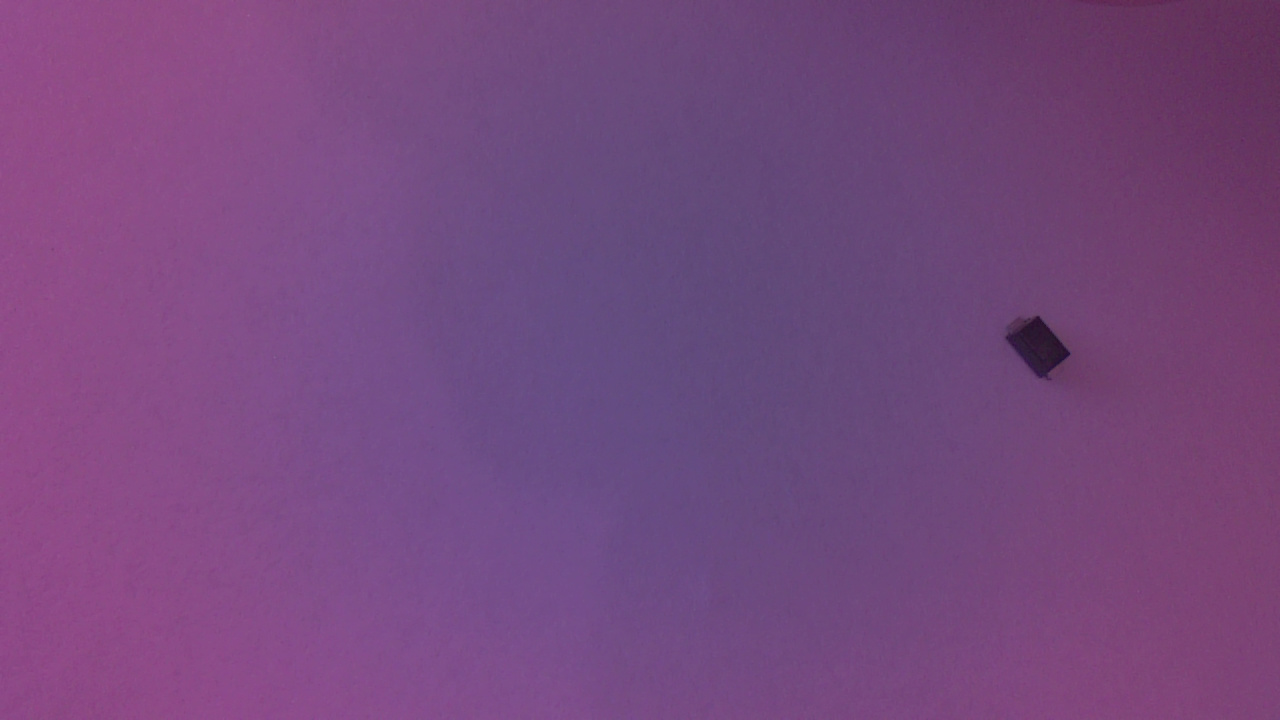Diode: (1008, 312, 1077, 391)
